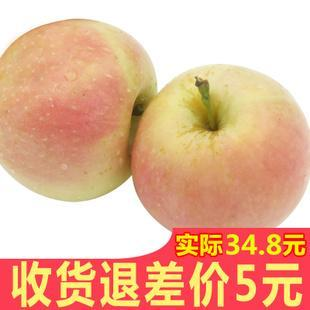apple: (131, 64, 307, 232), (1, 15, 157, 201)
